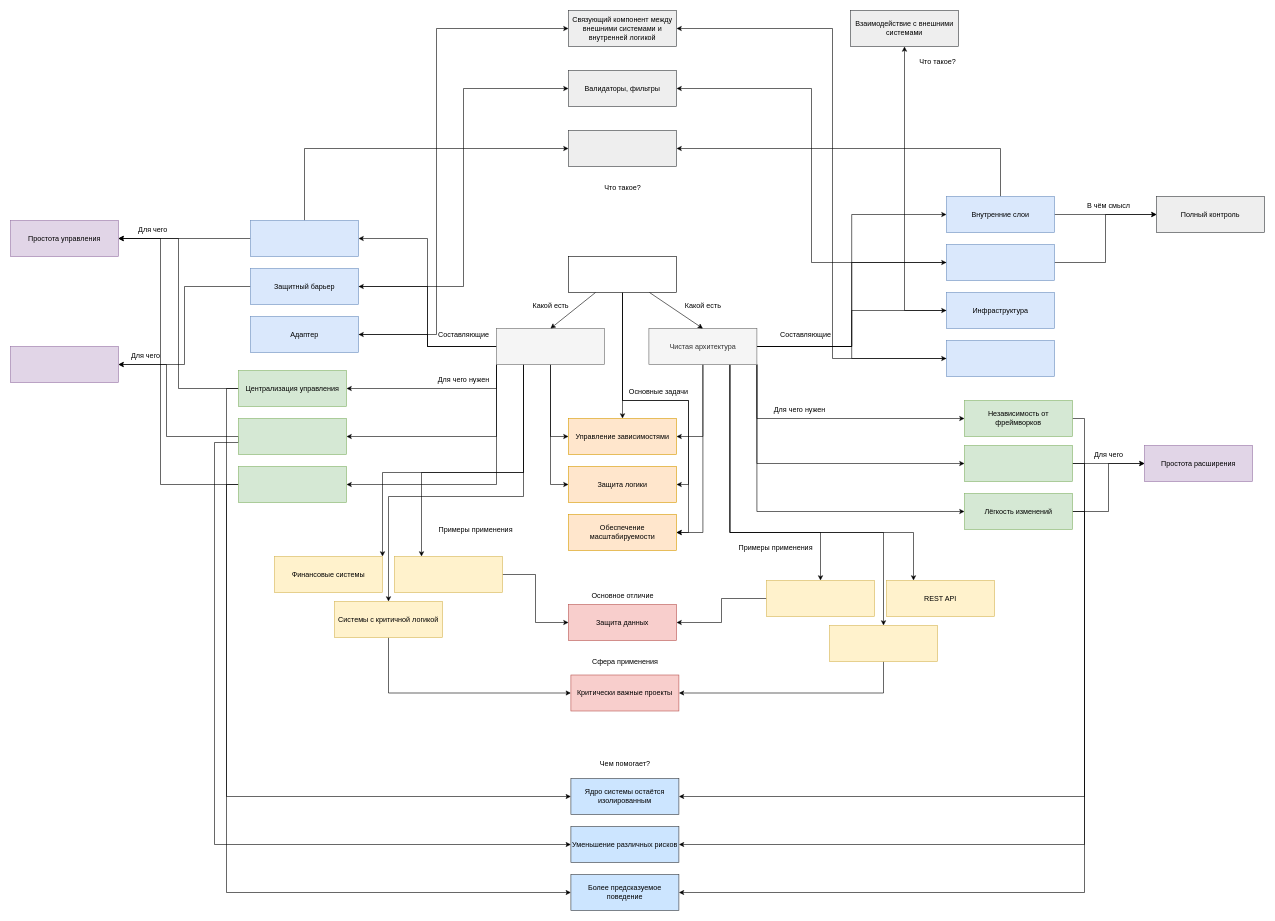
The diagram is 1275 pixels wide and 921 high, and some of its shapes have lost their labels. The box of each missing label's shape, as (x1, y1, x2, y2) in pixels:
Безопасные веб-приложения: (394, 556, 502, 592)
Большие корпоративные системы: (829, 625, 938, 662)
Внешние слои: (946, 244, 1054, 280)
Выполнение ключевых функций: (568, 130, 676, 166)
Высокая безопасность проекта: (10, 346, 118, 382)
Защита внутренней логики: (238, 418, 346, 454)
Интерфейсы: (946, 340, 1054, 376)
Контроль над состоянием: (238, 466, 346, 502)
Лёгкость тестирования: (964, 445, 1072, 482)
Многоуровневые приложения: (766, 580, 874, 616)
Паттерны: (568, 256, 676, 292)
Центральная логика: (250, 220, 358, 256)
Цитадель: (496, 328, 604, 364)
